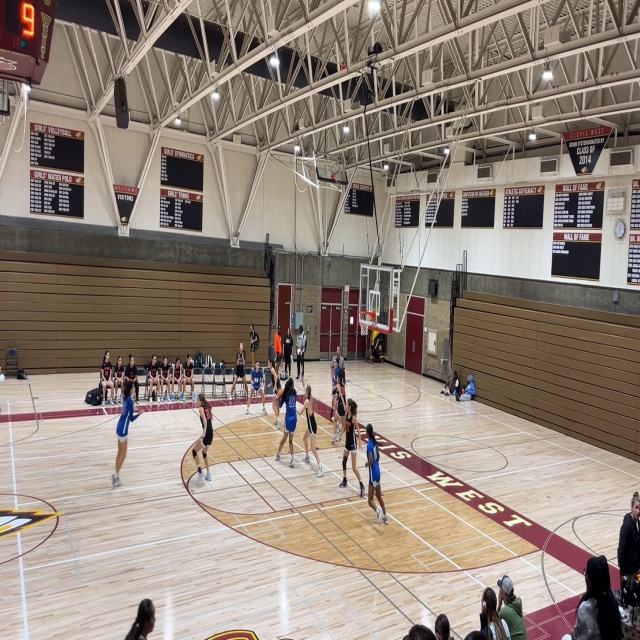Basketball: (561, 634, 572, 640)
